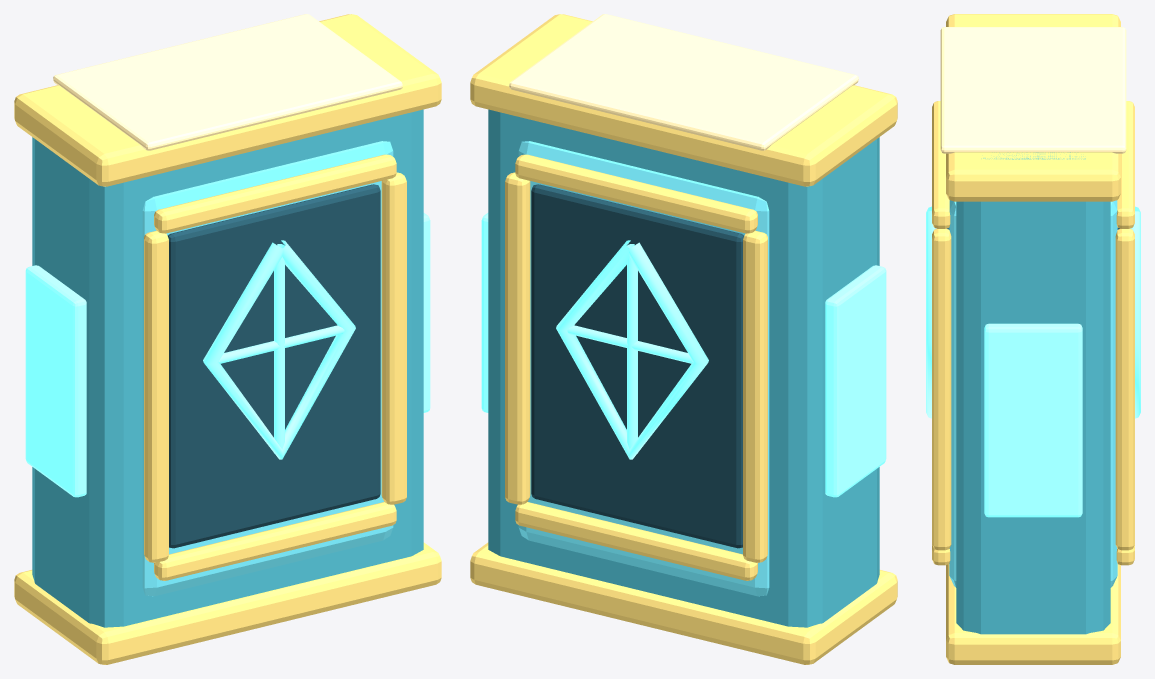
File: rune_cover.glb
The picture shows the model from 3 angles, left to right: view 1: azimuth 30°, elevation 25°; view 2: azimuth 150°, elevation 25°; view 3: azimuth 270°, elevation 25°; orthographic projection. The views are drawn at different scales.
Parts seen in each view (by area): view 1: Runespire Arcane Cover; view 2: Runespire Arcane Cover; view 3: Runespire Arcane Cover.
Boxes of the visible parts, x1,y1,x2,y2 form: Runespire Arcane Cover: (14,14,441,664); Runespire Arcane Cover: (470,14,897,664); Runespire Arcane Cover: (926,14,1140,664).
Size of the model in its own units: 1.14 by 1.58 by 0.6135.
